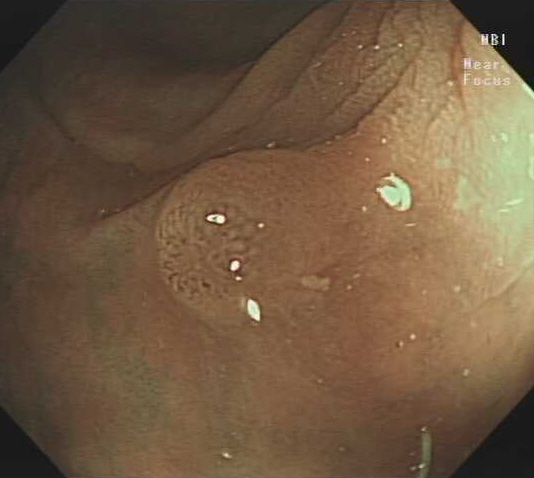adenoma: (153, 145, 347, 326)
